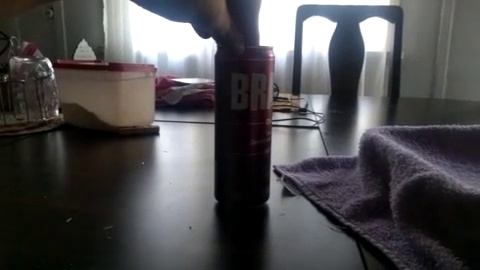duplo_malte: (187, 24, 294, 241)
